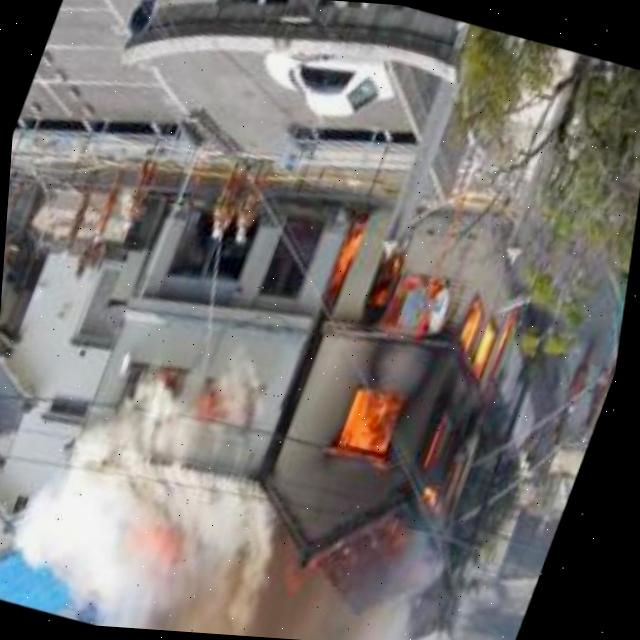fire: (247, 191, 557, 520)
